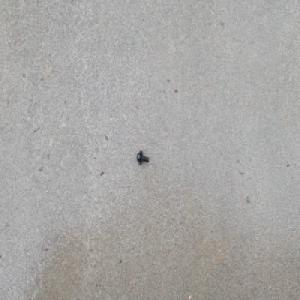BoltWasher: (136, 149, 149, 165)
